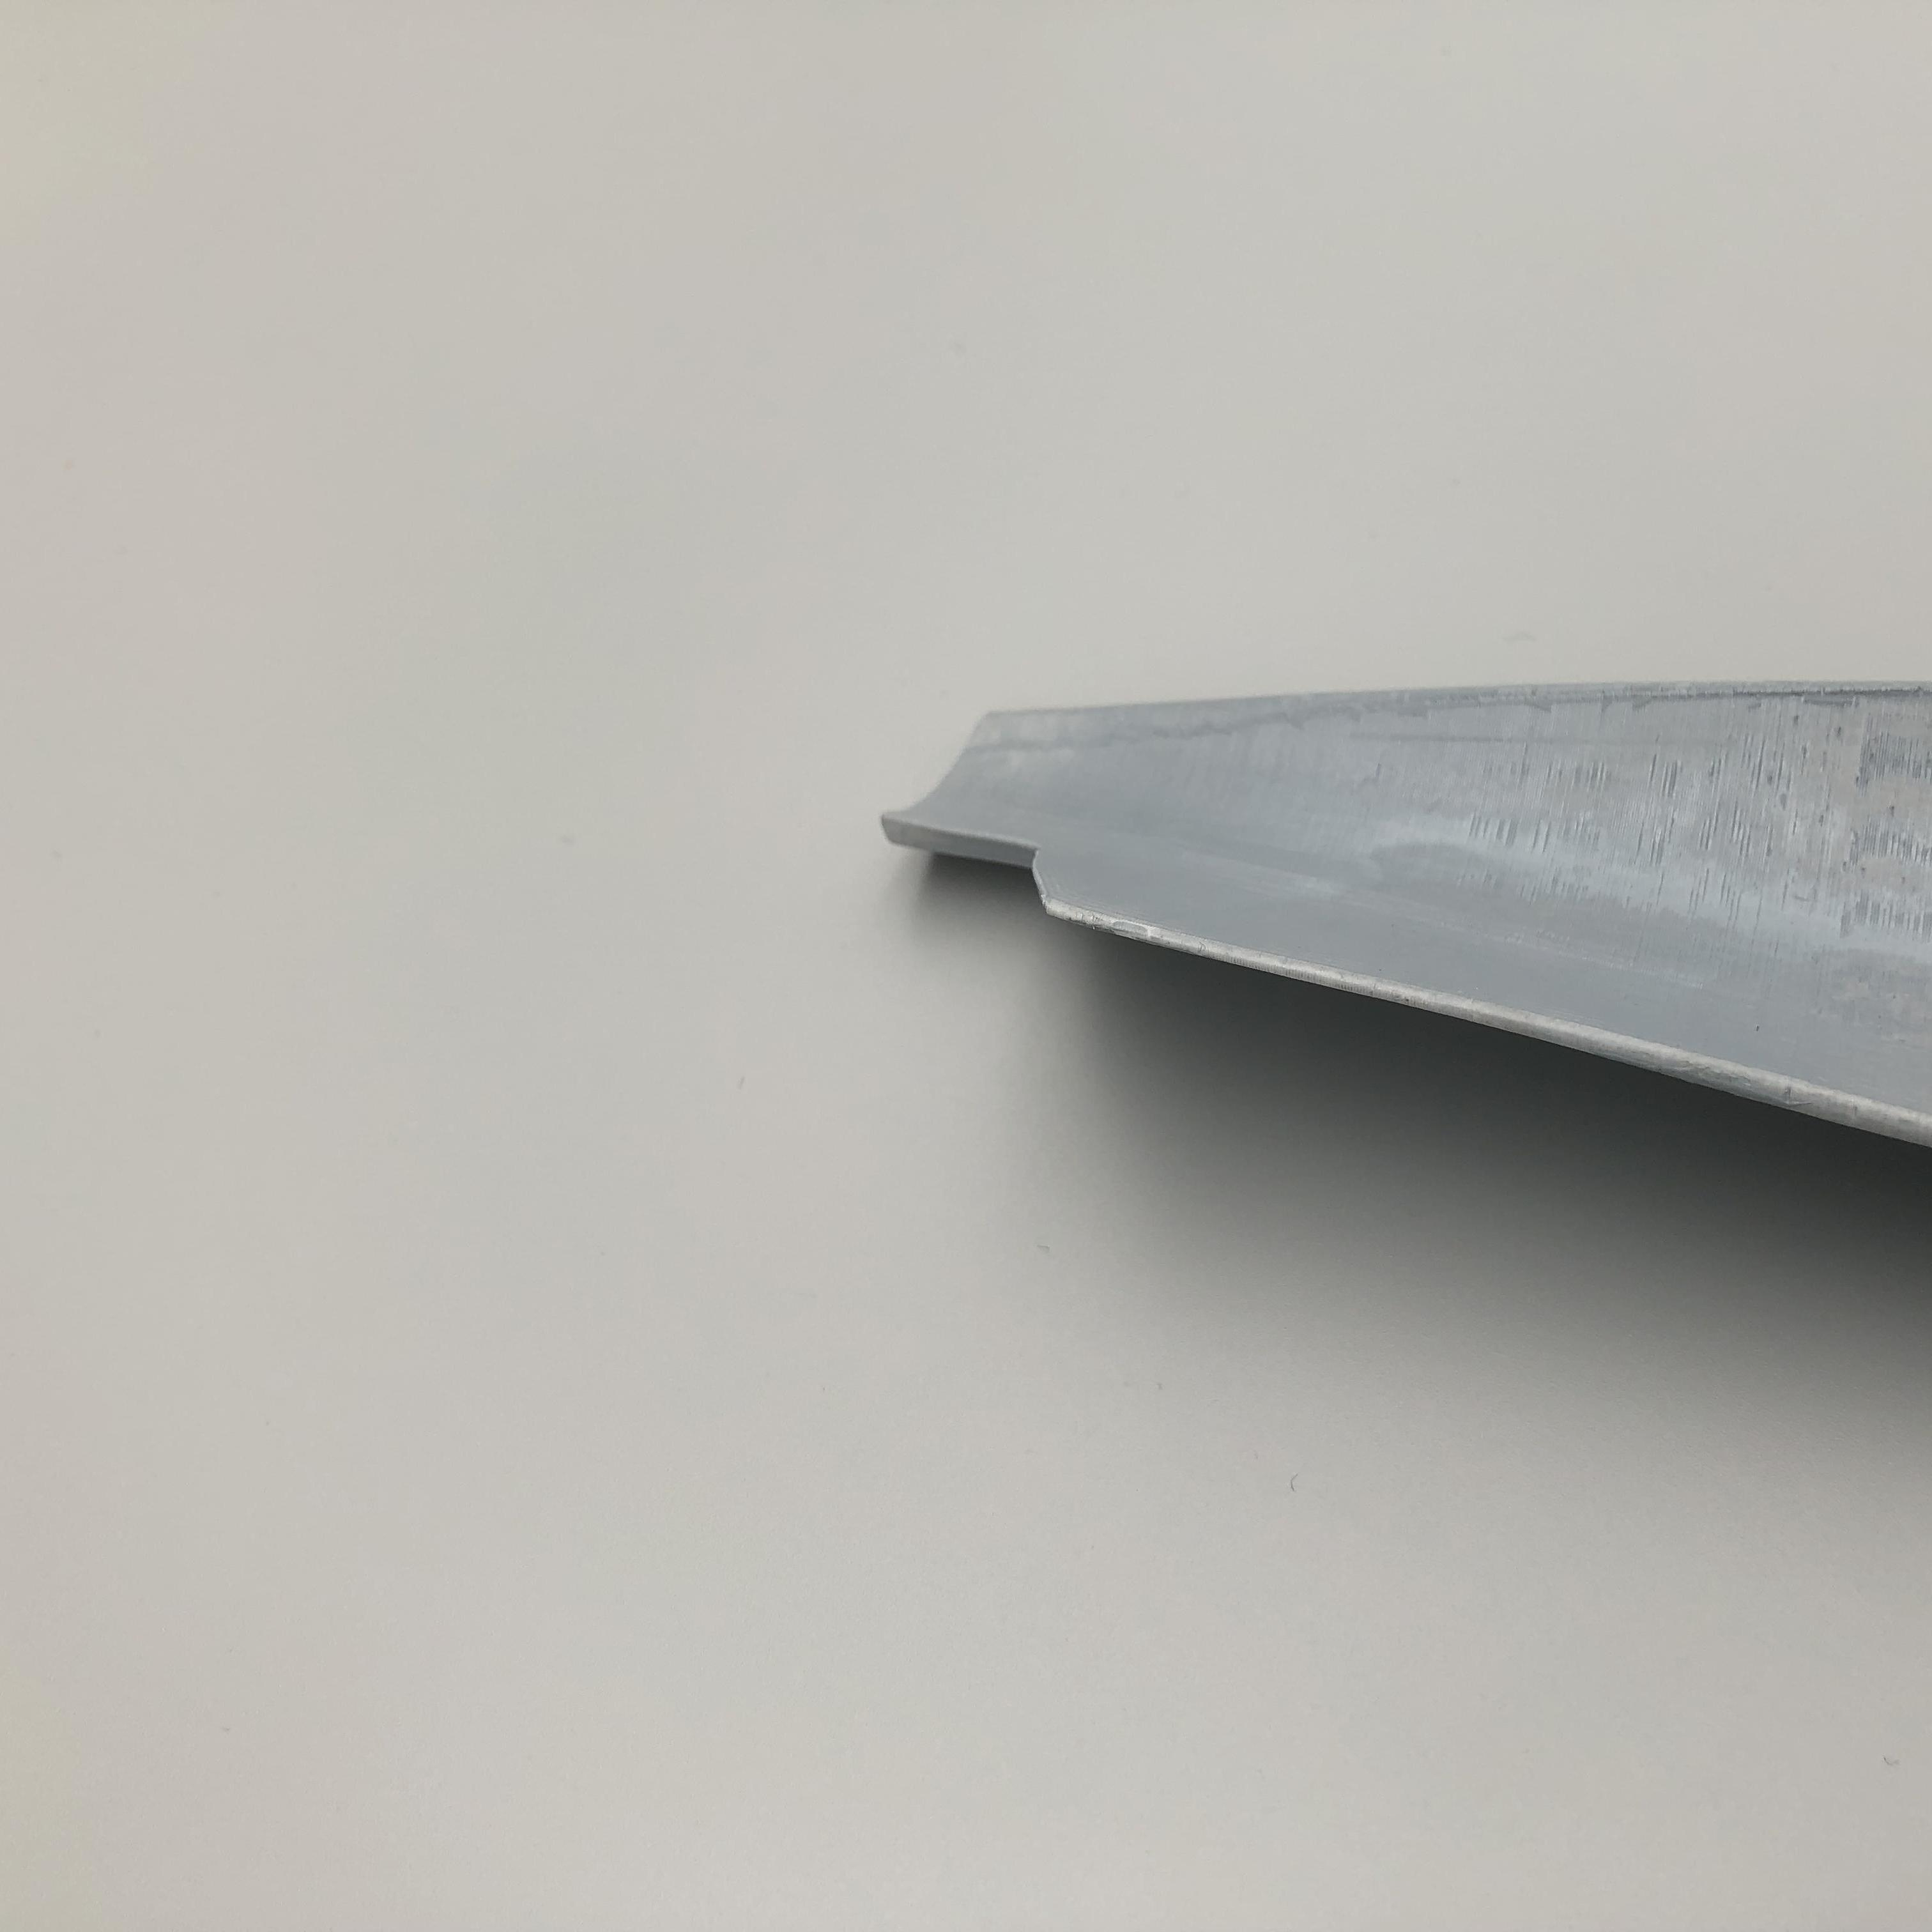fracture: (883, 805, 1079, 929)
